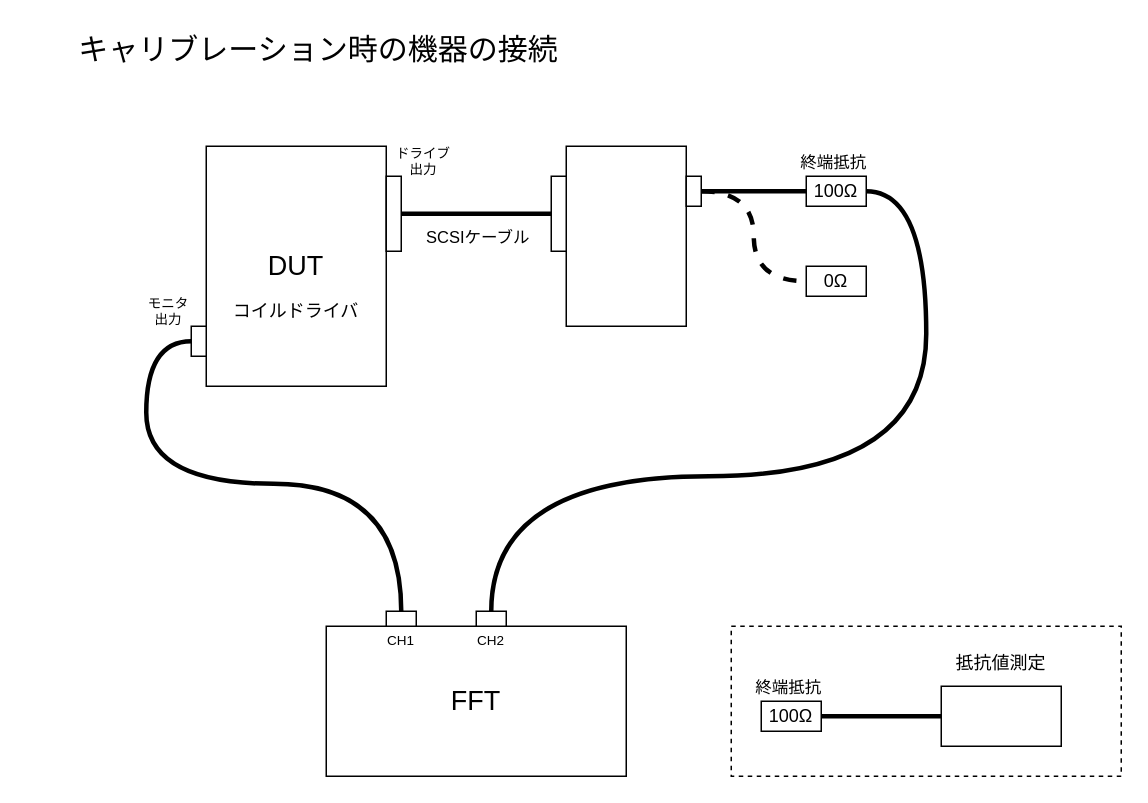
Some shapes in this 1148 by 803 pixel diagram are drawn without their labels. Here are the shapes that lost their labels. From the top down, the centre of each, then its label:
At [625,235]: "治具".
At [1000,715]: "DMM".
